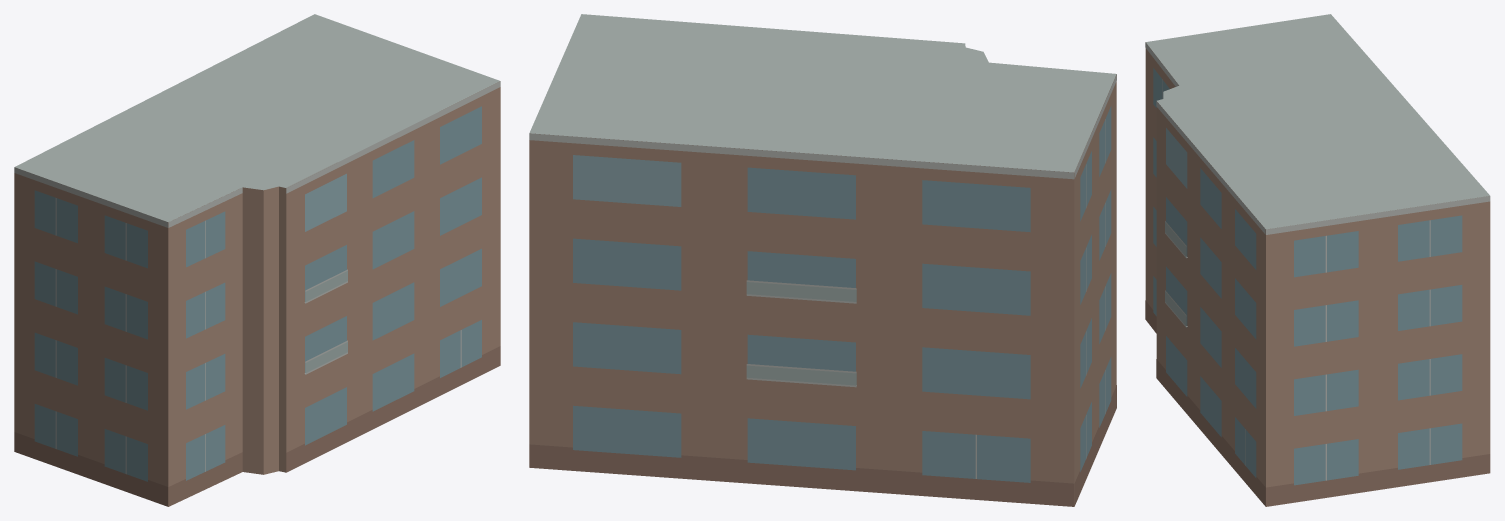
The model's file is survey-upis-32843935.glb.
3 views of the same model, side by side, from view 1: azimuth 30°, elevation 25°; view 2: azimuth 150°, elevation 25°; view 3: azimuth 270°, elevation 25° (orthographic). The views are drawn at different scales.
Parts seen in each view (by area): view 1: survey-upis-32843935.tmp; view 2: survey-upis-32843935.tmp; view 3: survey-upis-32843935.tmp.
Boxes of the visible parts, box(x1,y1,x2,y2) form: survey-upis-32843935.tmp: box(14, 14, 500, 506); survey-upis-32843935.tmp: box(529, 14, 1116, 506); survey-upis-32843935.tmp: box(1145, 14, 1490, 506).
Bounding box in the file's own units: 20 × 12 × 13.53.
